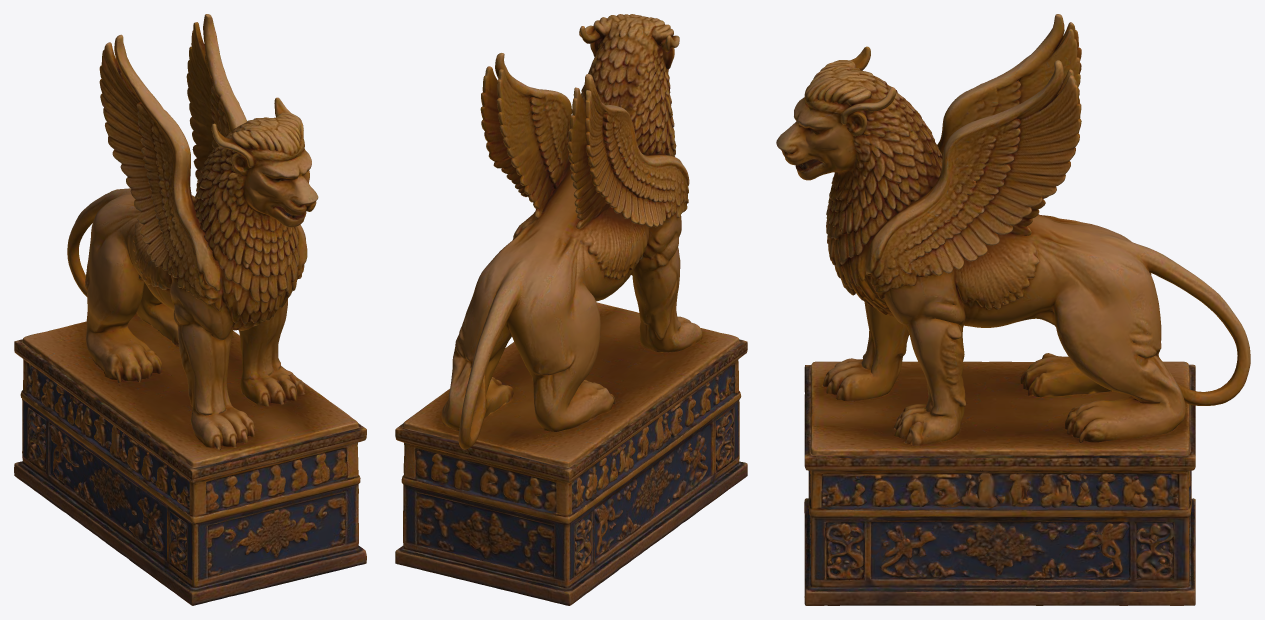
File: اسد مجنح .glb
The picture shows the model from 3 angles, left to right: view 1: azimuth 30°, elevation 25°; view 2: azimuth 150°, elevation 25°; view 3: azimuth 270°, elevation 25°; orthographic projection. The views are drawn at different scales.
Parts seen in each view (by area): view 1: world; view 2: world; view 3: world.
Boxes of the visible parts, x1,y1,x2,y2 form: world: (14, 14, 366, 605); world: (395, 14, 747, 605); world: (776, 14, 1250, 605).
Bounding box in the file's own units: 0.3853 × 0.9998 × 0.8238.
1 material, 1 textured.
